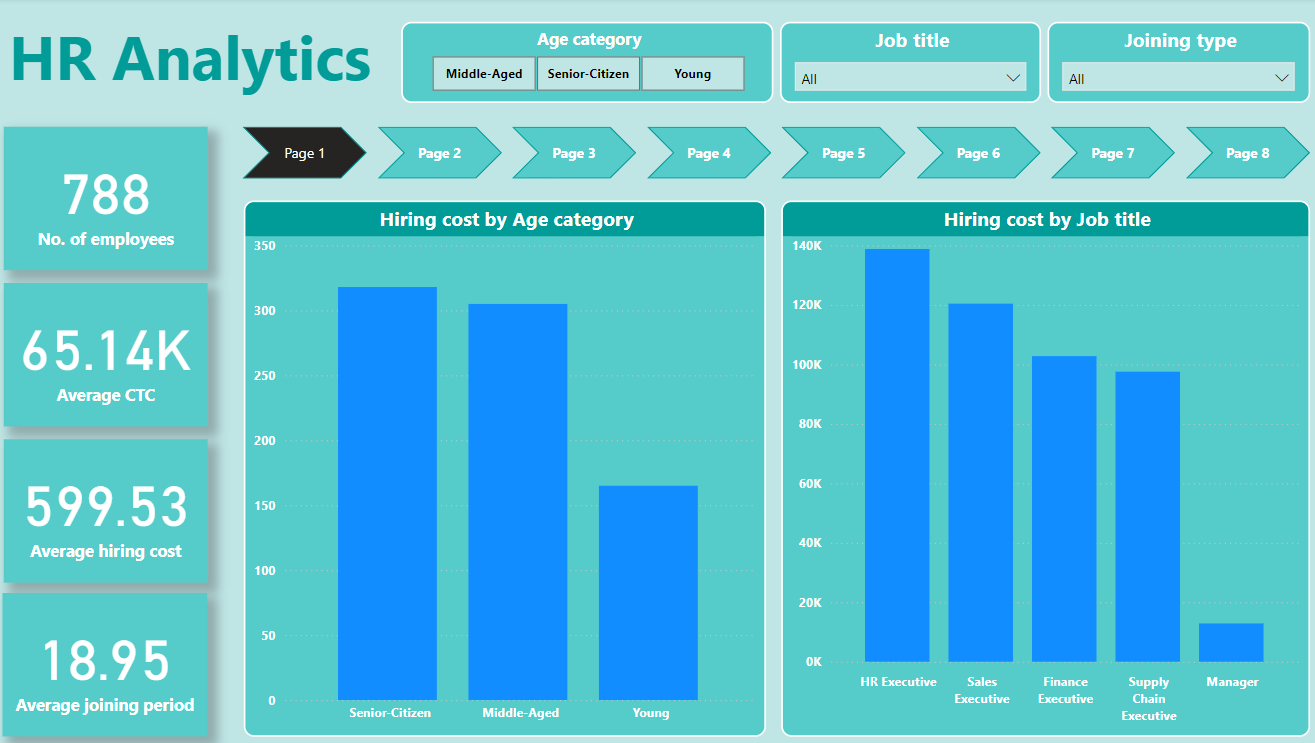

The dashboard page shown, as its layout file describes it:
{"tool":"powerbi","page":{"name":"Page 1","canvas":[1280,720],"ordinal":0},"visuals":[{"type":"textbox","box":[8.4,10.9,383.6,90.5],"z":0},{"type":"card","fields":{"Values":["Hiring Data.No. of employees"]},"box":[8.6,124.7,196.9,138.2],"z":1000},{"type":"card","fields":{"Values":["Hiring Data.Average CTC"]},"box":[8.6,275.1,196.9,138.2],"z":2000},{"type":"card","fields":{"Values":["Hiring Data.Average hiring cost"]},"box":[8.6,425.5,196.9,138.2],"z":3000},{"type":"card","fields":{"Values":["Hiring Data.Average joining period"]},"box":[7.2,574.3,197.9,138.7],"z":4000},{"type":"slicer","title":"Age category","fields":{"Values":["Employee.Age category"]},"box":[392.1,22.9,359.5,78.4],"z":5000},{"type":"slicer","title":"Job title","fields":{"Values":["Employee.Job Title"]},"box":[757.6,22.9,252.1,78.4],"z":6000},{"type":"slicer","title":"Joining type","fields":{"Values":["Hiring Data.joining type"]},"box":[1015.8,22.9,253.4,78.4],"z":7000},{"type":"pageNavigator","box":[238.9,124.3,1035.1,50.7],"z":8000},{"type":"columnChart","title":"Hiring cost by Job title","fields":{"Y":["Sum(Hiring Data.hiring_cost)"],"Category":["Employee.Job Title"]},"box":[758.9,195.4,510.3,517.6],"z":9000},{"type":"columnChart","title":"Hiring cost by Age category","fields":{"Y":["Hiring Data.No. of employees"],"Category":["Employee.Age category"]},"box":[240.1,195.4,504.3,517.6],"z":10000}]}

Visuals, with their boxes in screenshot pixels (x1, y1, x2, y2), scaled from the page's 1280x720 canvas onto the 1315x743 screenshot:
textbox: (left=9, top=11, right=403, bottom=105)
card - Hiring Data.No. of employees: (left=9, top=129, right=211, bottom=271)
card - Hiring Data.Average CTC: (left=9, top=284, right=211, bottom=427)
card - Hiring Data.Average hiring cost: (left=9, top=439, right=211, bottom=582)
card - Hiring Data.Average joining period: (left=7, top=593, right=211, bottom=736)
"Age category" slicer: (left=403, top=24, right=772, bottom=105)
"Job title" slicer: (left=778, top=24, right=1037, bottom=105)
"Joining type" slicer: (left=1044, top=24, right=1304, bottom=105)
pageNavigator: (left=245, top=128, right=1309, bottom=181)
"Hiring cost by Job title" columnChart: (left=780, top=202, right=1304, bottom=736)
"Hiring cost by Age category" columnChart: (left=247, top=202, right=765, bottom=736)
